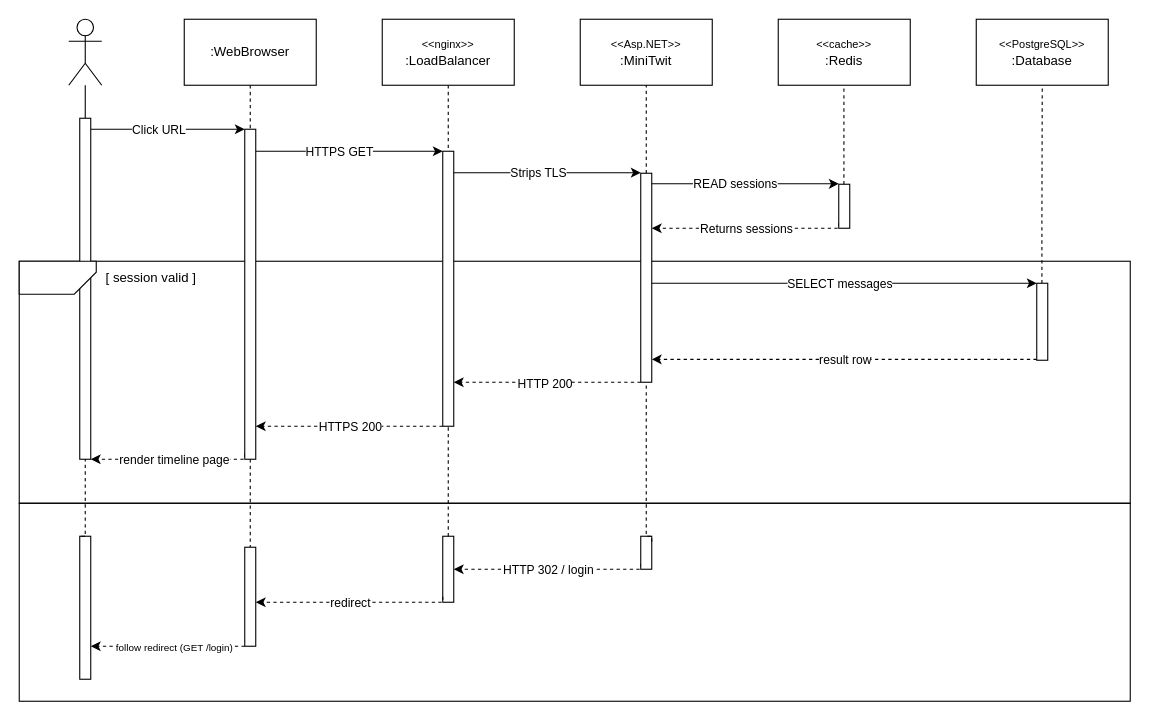
Image size: 1150x721. Some labels were removed from this diagram. Each missing label, with the centre of its shape:
"[ no session ]" belongs at point (574, 601).
"alt" belongs at point (57, 277).
